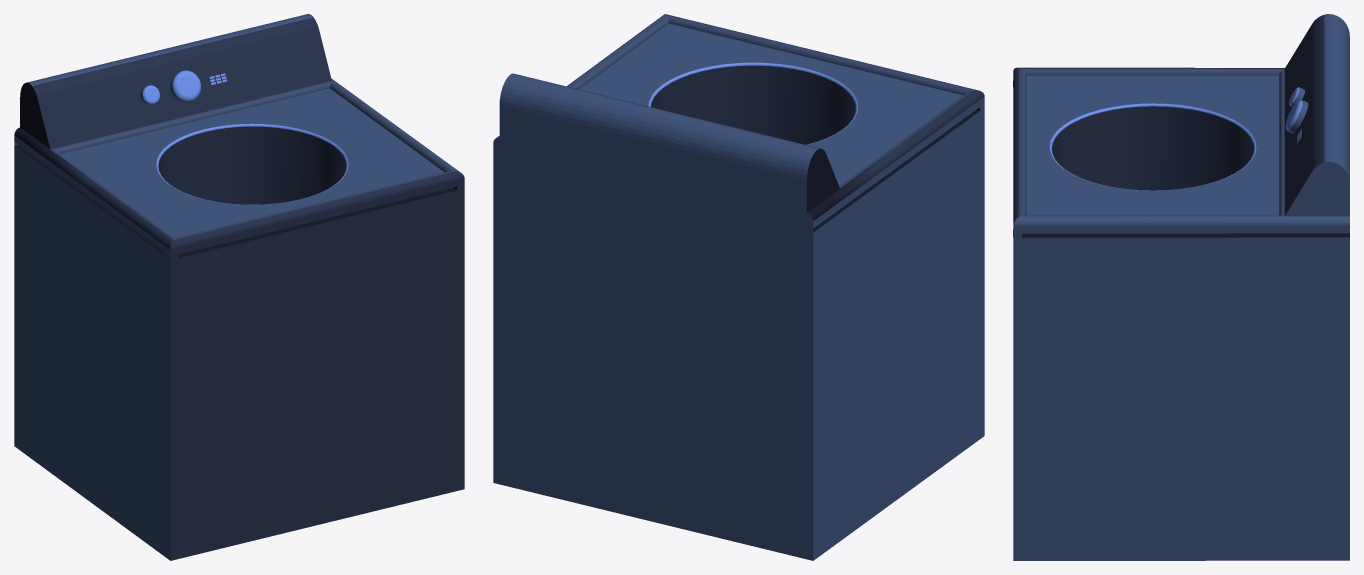
The model's file is washingmachine.fbx.
3 renders of one model, left to right at view 1: azimuth 30°, elevation 25°; view 2: azimuth 150°, elevation 25°; view 3: azimuth 270°, elevation 25°, orthographic. The views are drawn at different scales.
Parts seen in each view (by area): view 1: WMachine; view 2: WMachine; view 3: WMachine.
Boxes of the visible parts, box(x1,y1,x2,y2) form: WMachine: box(14, 14, 464, 560); WMachine: box(493, 14, 984, 560); WMachine: box(1013, 14, 1349, 560).
Bounding box in the file's own units: 400 × 478 × 369.
Materials: 1 (1 with a texture image).
